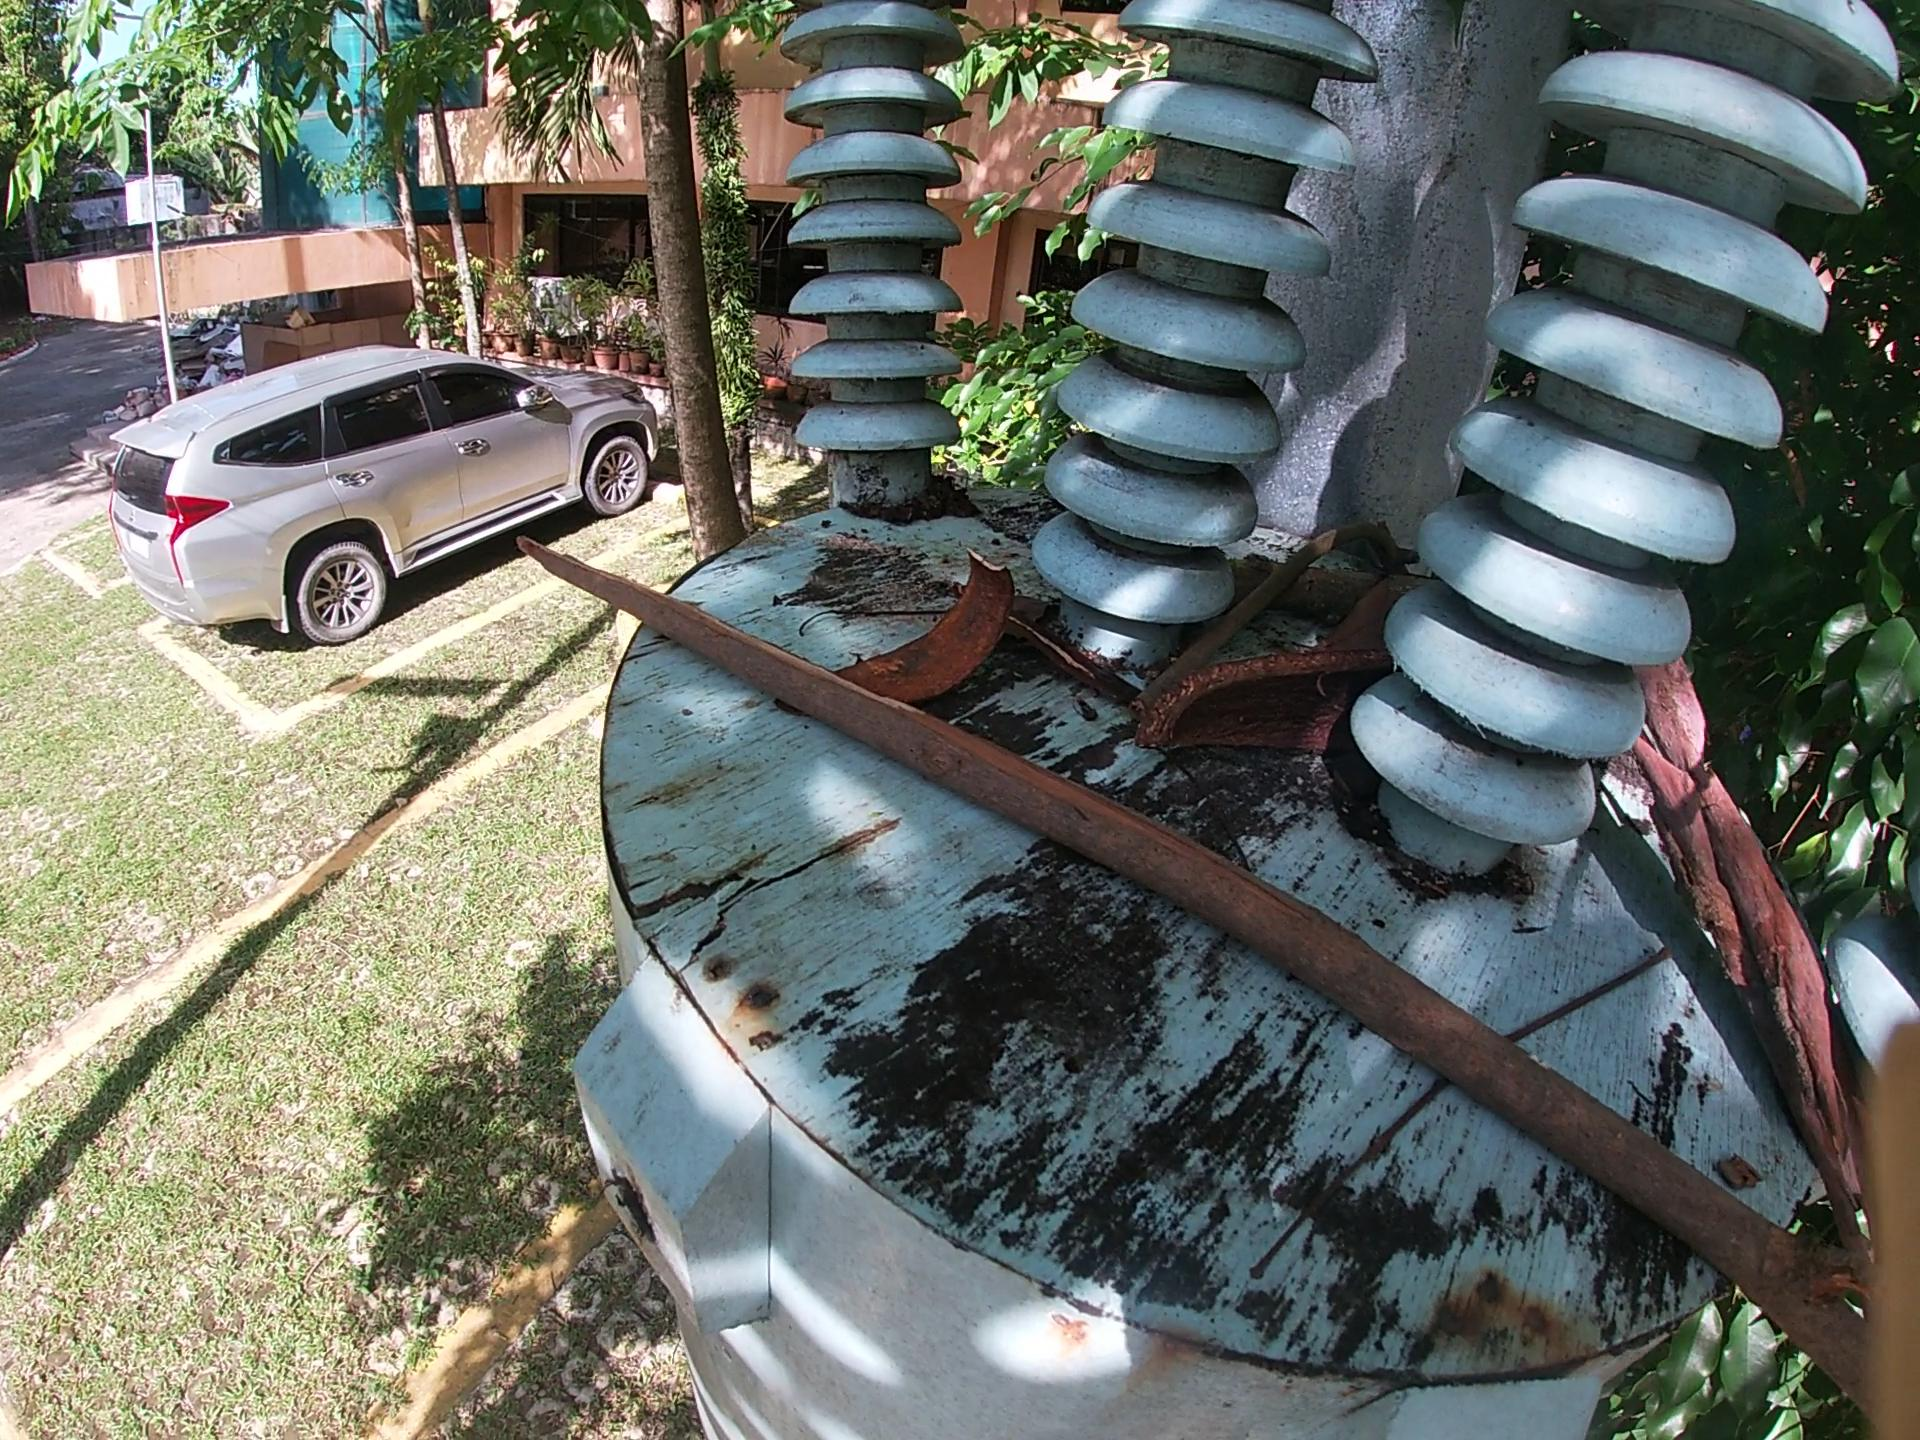leaf: (1314, 593, 1414, 653)
mahogany fruit: (1116, 653, 1406, 771), (845, 557, 1054, 696)
tree branch: (505, 508, 1909, 1437), (1222, 938, 1698, 1280), (1643, 640, 1878, 1308), (1126, 514, 1380, 715), (1014, 611, 1129, 714), (1219, 564, 1401, 614), (804, 597, 930, 656)
